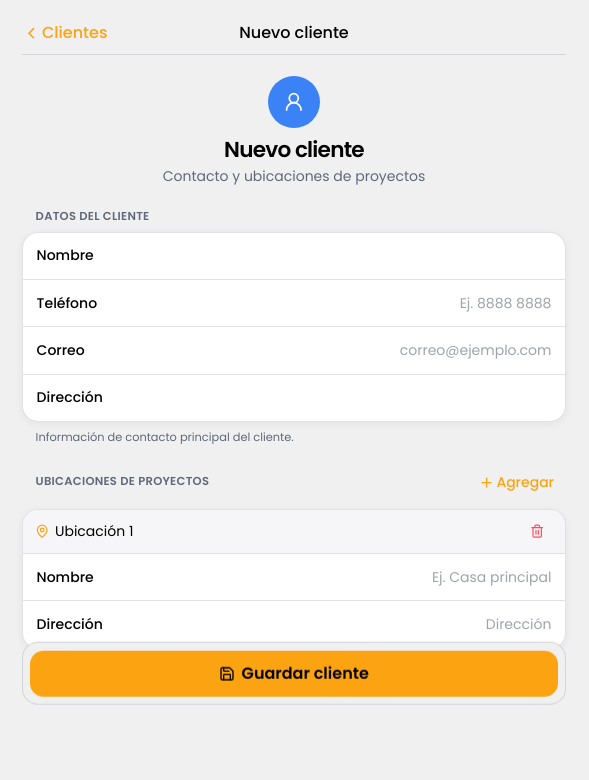
Test: ClientForm › shows useful errors and retains entered contact data
The width and height of the screenshot is (589, 780).
Type "incorrecto" into the field named "Correo electrónico" at (348, 351), box [145,335,551,367]
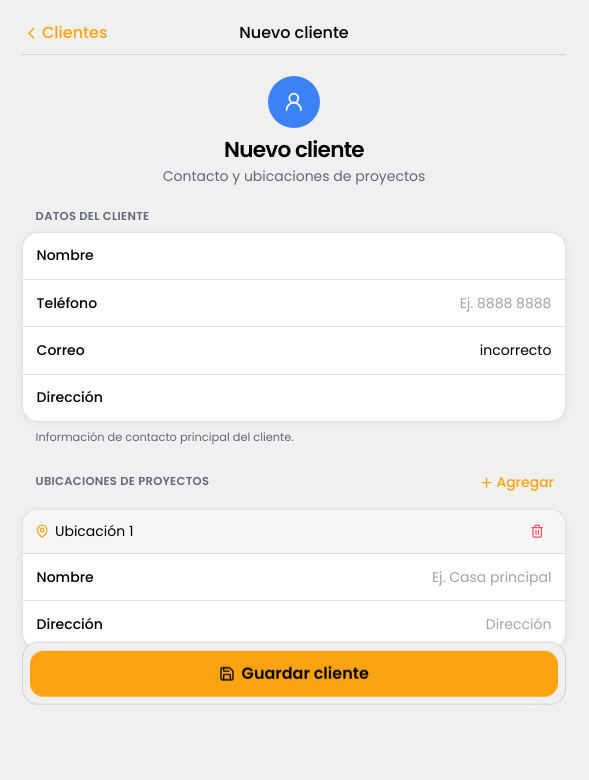
Click the button "Guardar cliente" at (294, 673), box [30,650,558,697]
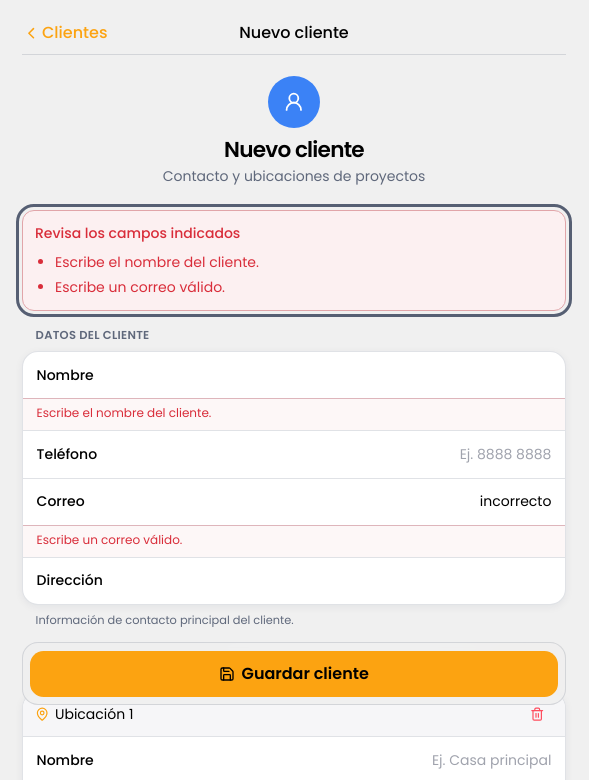
Expected: the number of list items "Escribe el nombre del cliente." is 2, [55,252,259,272]; [23,398,565,430]
Expected: the number of list items "Escribe un correo válido." is 2, [55,277,225,297]; [23,525,565,557]
Expected: the message shows "Escribe el nombre del cliente.", [55,252,259,272]
